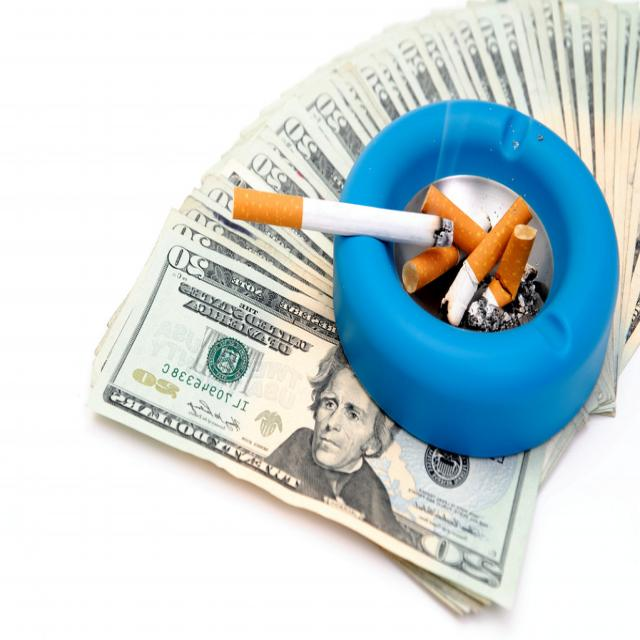smoking: (233, 184, 452, 243), (442, 195, 531, 318), (477, 224, 540, 324), (417, 172, 500, 246), (386, 244, 459, 327)
